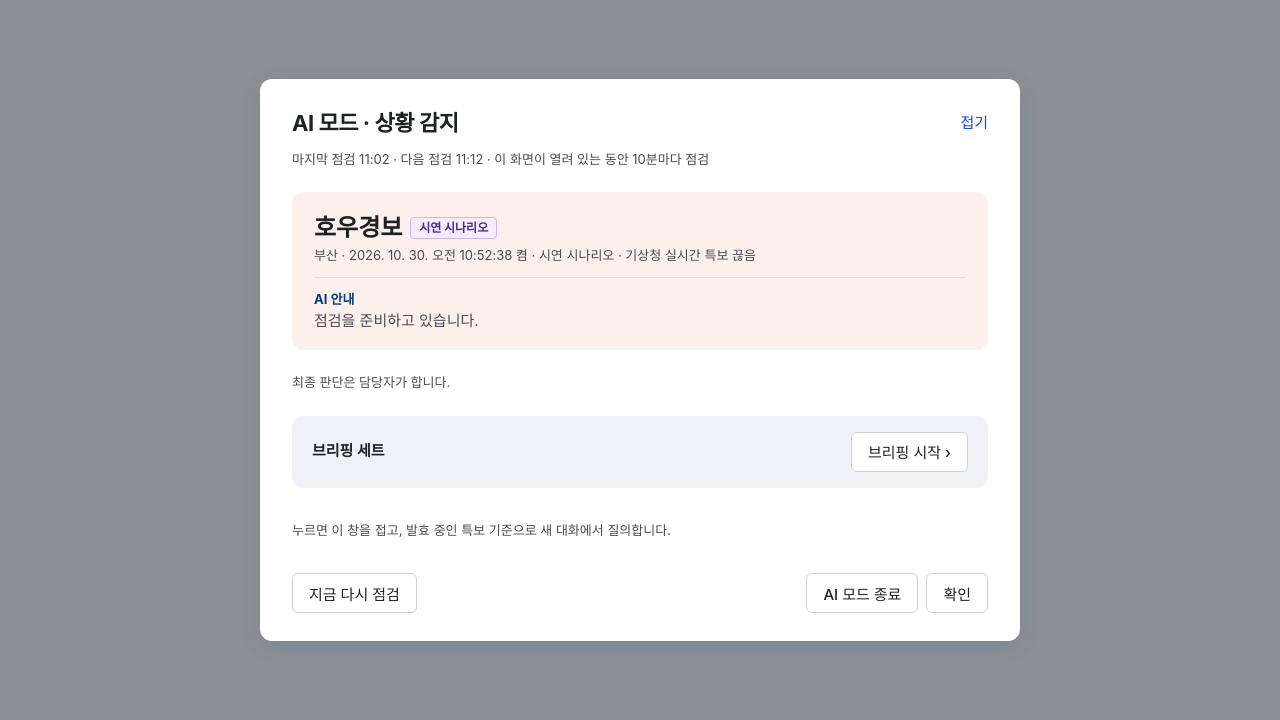
Test case: AI 모드 창·띠 — 「시연 시나리오」, 점검 질의에는 시나리오 출처 · 끊김 표시(R45) › 창의 특보 이름 옆 표지 · 「켬 · 시연 시나리오 · 기상청 실시간 특보 끊음」 · 점검 질의 weather_warnings · 접은 띠의 이름·끊김
Expected: the text "시연 시나리오" is shown, [410,216,497,238]
Expected: the element with class "aim-card" shows "켬 · 시연 시나리오 · 기상청 실시간 특보 끊음", [292,192,988,350]
Click the button "접기": (974, 124) [960,112,988,135]
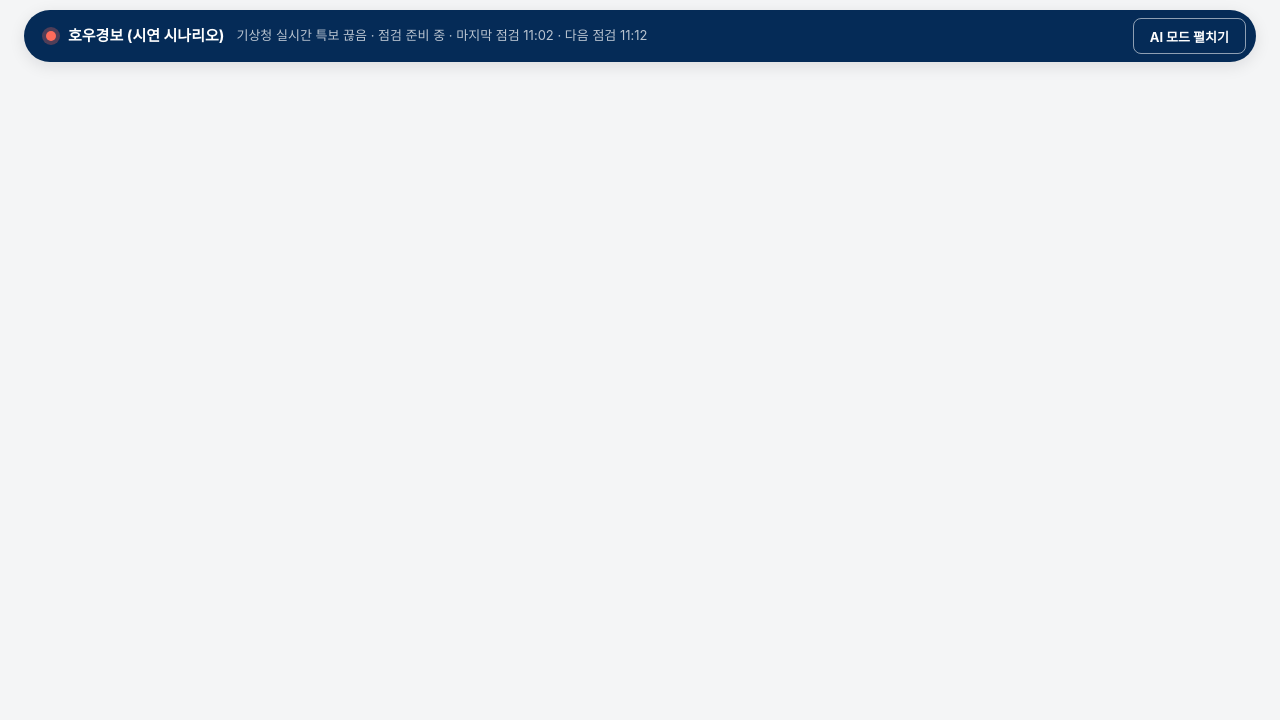
Expected: the text with class "aim-w" reads "호우경보 (시연 시나리오)", [68,26,224,45]
Expected: the text with class "aim-t" shows "기상청 실시간 특보 끊음 ·", [236,27,648,43]
